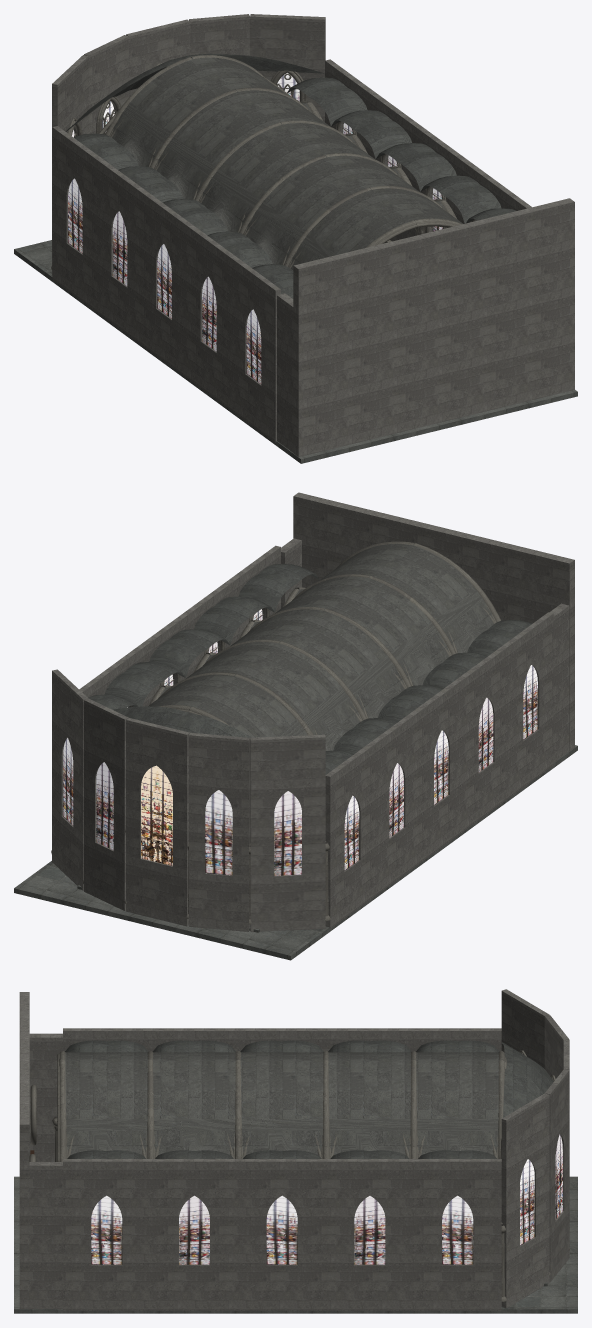
File: nave.glb
3 renders of one model, top to bottom at view 1: azimuth 30°, elevation 25°; view 2: azimuth 150°, elevation 25°; view 3: azimuth 270°, elevation 25°, orthographic.
Parts seen in each view (by area): view 1: Ashlar, Vault limewash, Roof plaster, Cut limestone, Limestone flags, Right glass, Left glass; view 2: Ashlar, Vault limewash, Roof plaster, Limestone flags, Right glass, Cut limestone, Left glass, Middle glass; view 3: Ashlar, Vault limewash, Roof plaster, Right glass, Cut limestone, Limestone flags, Left glass.
Part boxes in pixels (x1,y1,x2,y2): Ashlar: (52,14,574,456); Vault limewash: (112,57,462,270); Roof plaster: (65,53,516,298); Cut limestone: (51,55,474,269); Limestone flags: (14,240,577,463); Right glass: (68,72,442,383); Left glass: (72,130,397,351); Ashlar: (52,492,574,931); Vault limewash: (148,543,493,750); Roof plaster: (88,564,532,774); Limestone flags: (14,745,577,960); Right glass: (63,609,537,875); Cut limestone: (51,541,500,924); Left glass: (96,642,493,875); Middle glass: (141,765,172,865); Ashlar: (19,989,569,1310); Vault limewash: (63,1052,501,1154); Roof plaster: (65,1040,553,1158); Right glass: (91,1159,534,1264); Cut limestone: (29,1050,569,1301); Limestone flags: (14,1176,577,1313); Left glass: (179,1134,562,1264).
Bounding box in the file's own units: 12.58 × 8.48 × 22.5.
21 materials, 12 textured.
